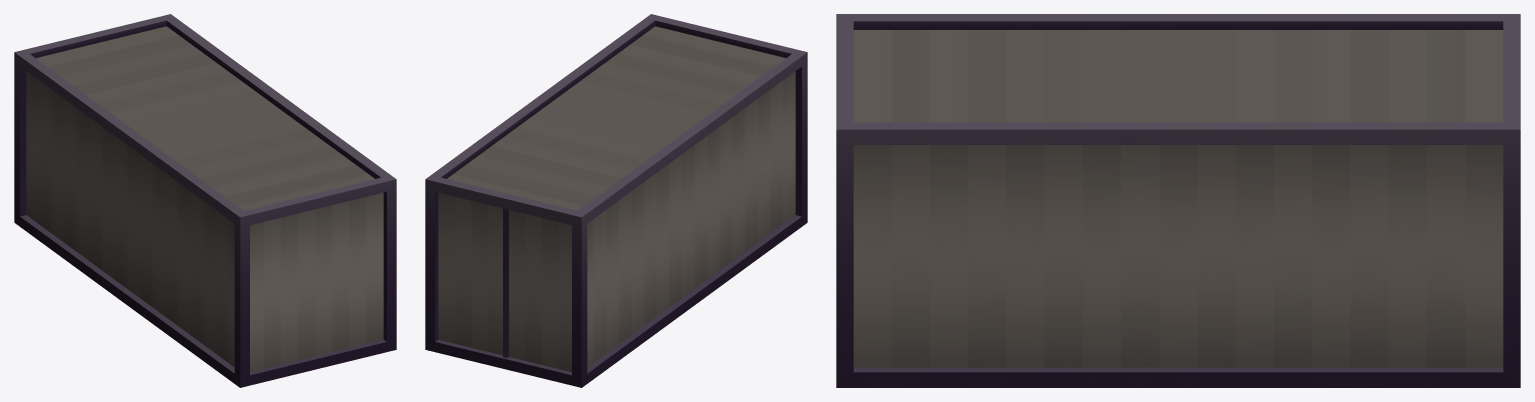
The model's file is Container_1J.fbx.
The picture shows the model from 3 angles, left to right: view 1: azimuth 30°, elevation 25°; view 2: azimuth 150°, elevation 25°; view 3: azimuth 270°, elevation 25°; orthographic projection. The views are drawn at different scales.
Parts seen in each view (by area): view 1: Container_1J; view 2: Container_1J; view 3: Container_1J.
Part boxes in pixels (<box>): Container_1J: <box>14,14,396,387</box>; Container_1J: <box>425,14,807,387</box>; Container_1J: <box>836,14,1520,387</box>.
Bounding box in the file's own units: 2.4 × 2.5 × 6.
